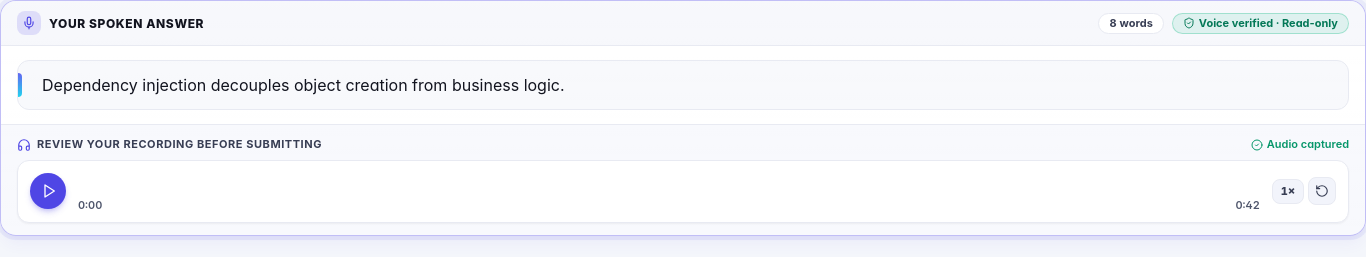
Test: AnswerEditor improved transcript + audio review UI › renders read-only transcript, custom audio player controls, and speed selector
Expected: the text "Dependency injection decouples" is shown, [42, 75, 564, 95]
Expected: the button named "Play recording" is shown, [30, 173, 66, 209]
Click the button titled "Playback speed".
click(1288, 191)  # box [1272, 179, 1304, 204]
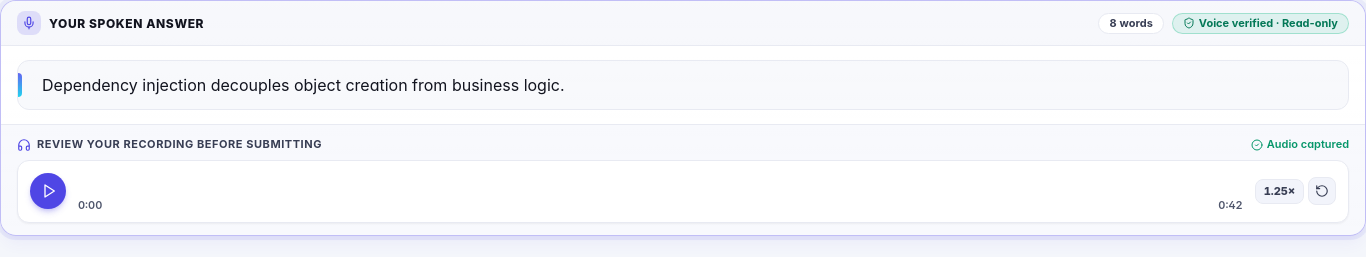
Expected: the button titled "Playback speed" reads "1.25×", [1255, 179, 1304, 204]
